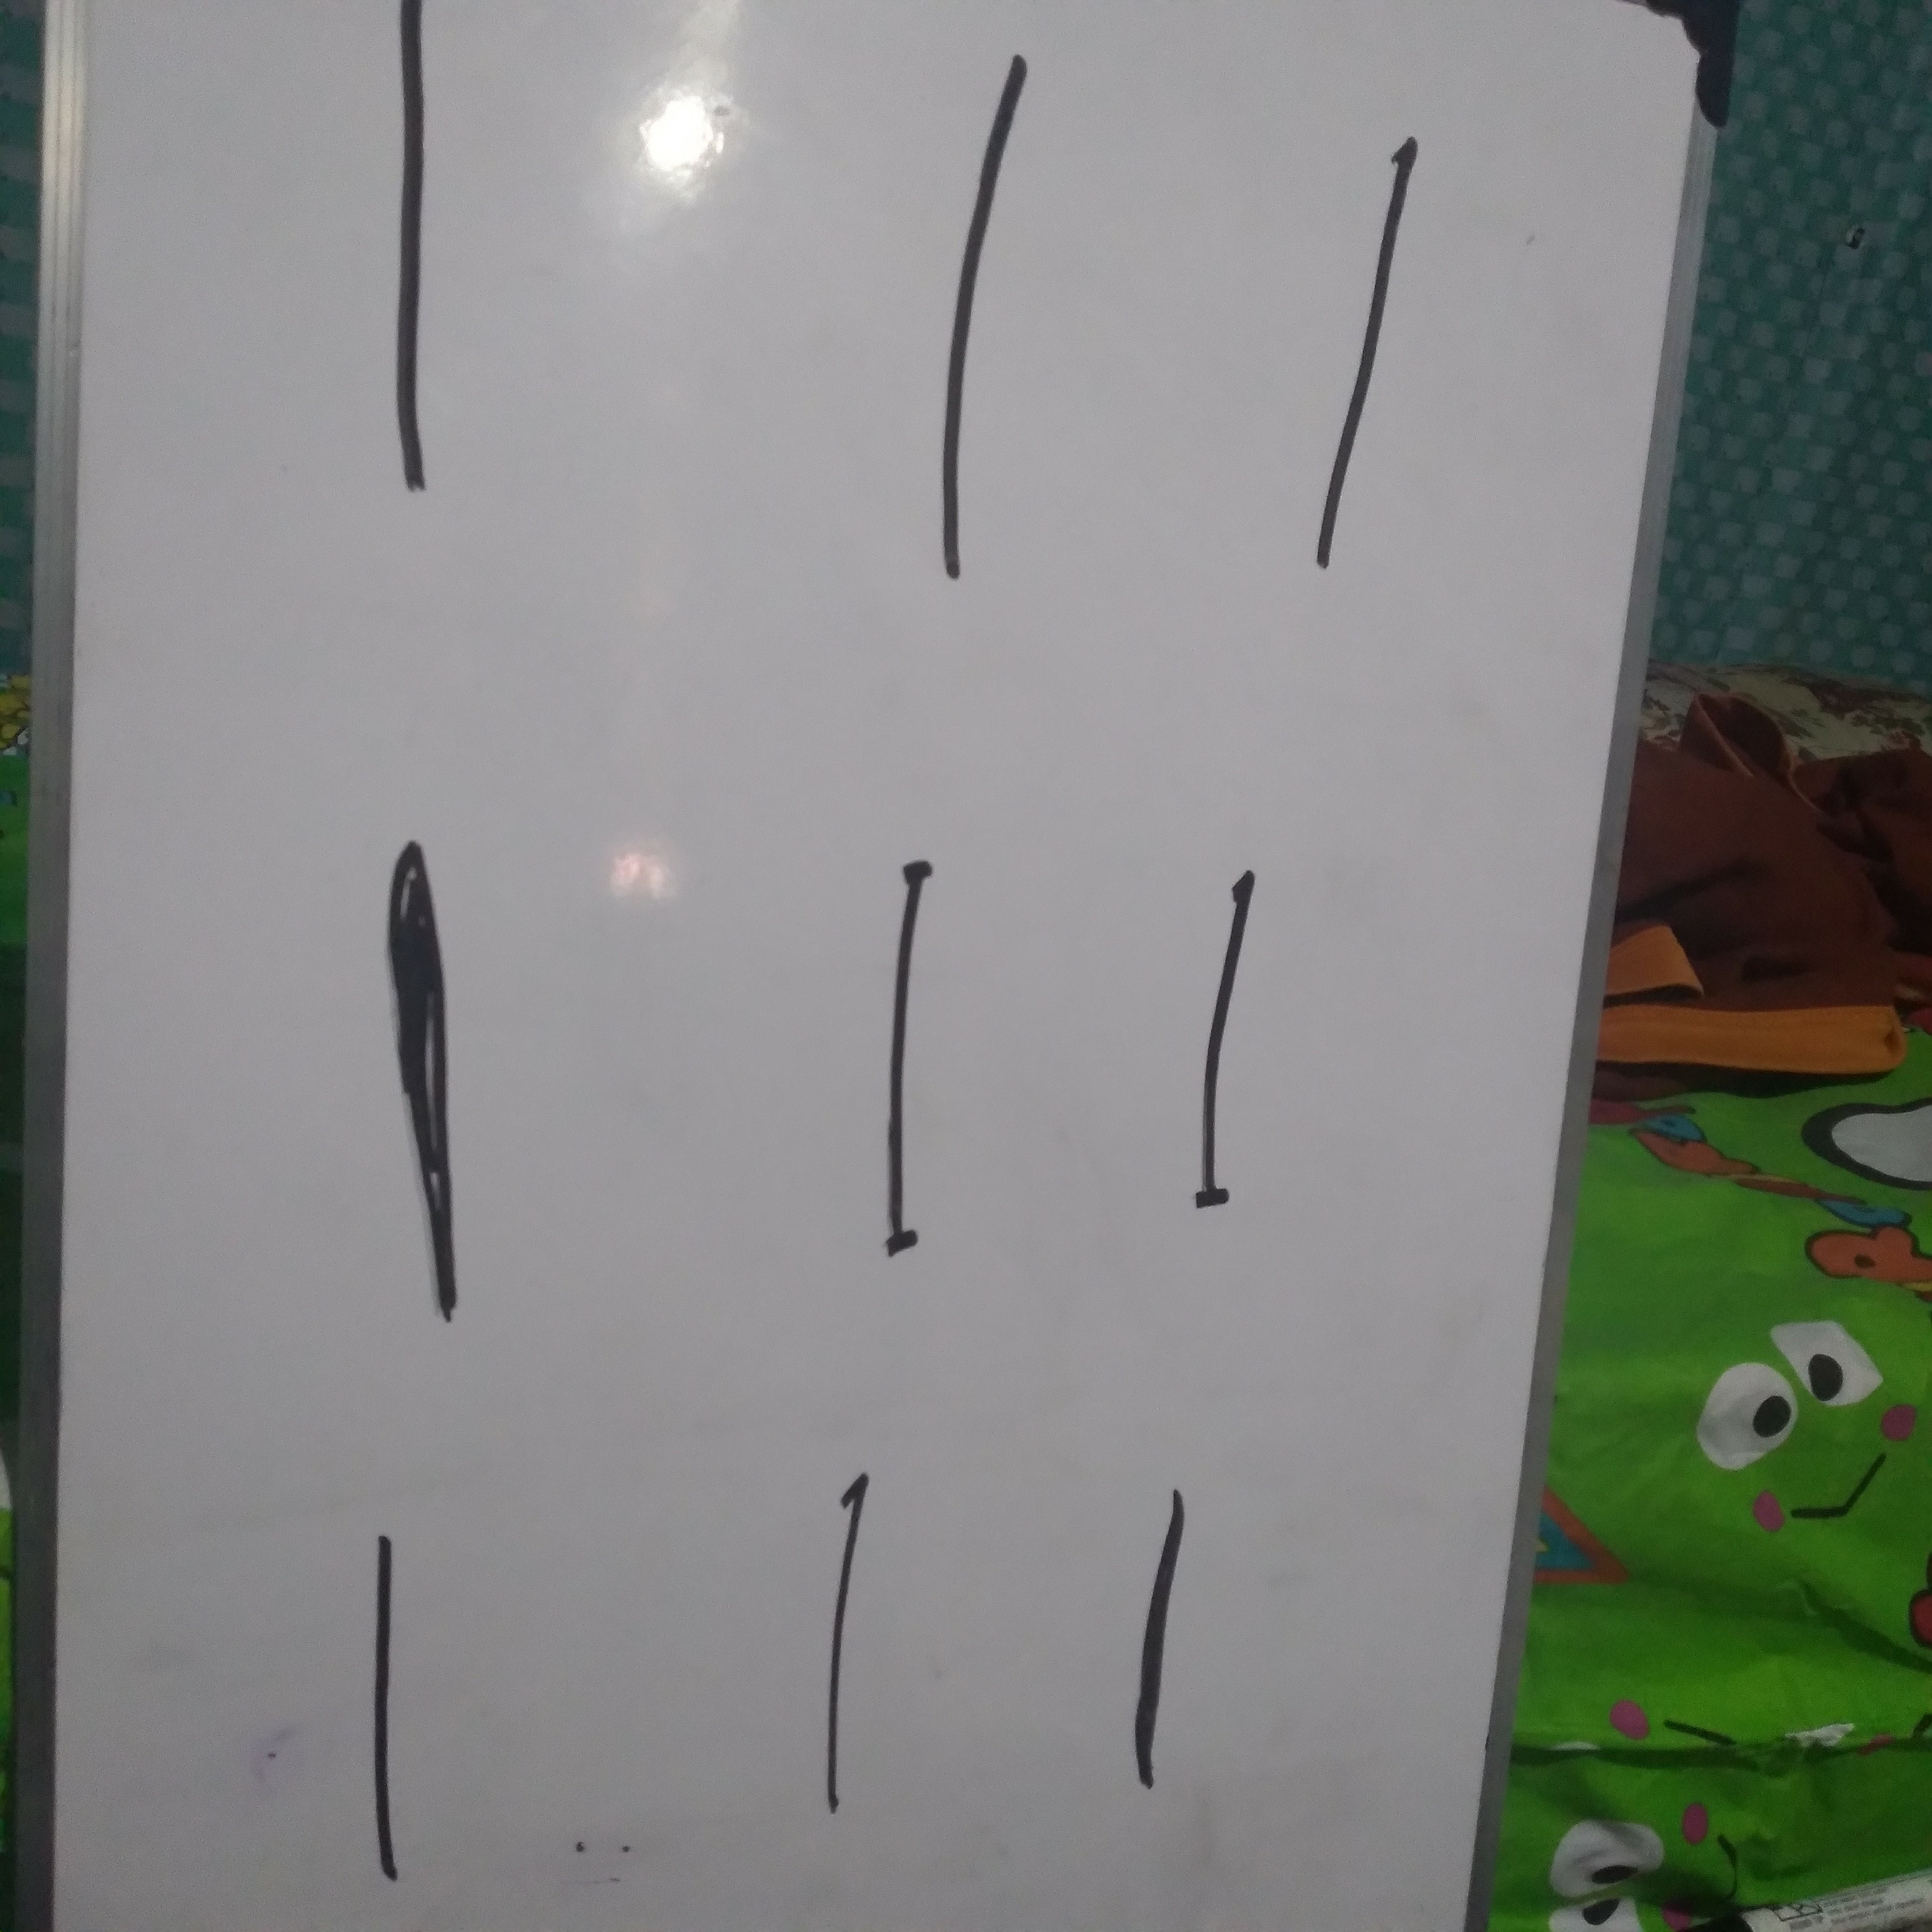num1: (915, 19, 1032, 610), (1311, 58, 1428, 649), (335, 1412, 426, 1919), (374, 838, 465, 1345), (1111, 1374, 1202, 1881), (1175, 803, 1266, 1310), (371, 1, 462, 507), (796, 1401, 887, 1909), (858, 808, 949, 1316), (859, 810, 950, 1317)
